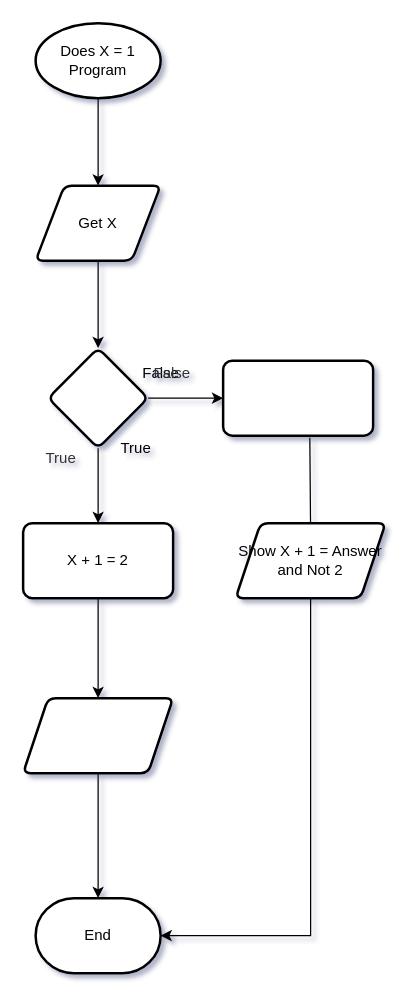
The diagram is 415 pixels wide and 1003 high, and some of its shapes have lost their labels. Each missing label, with the box of its shape:
If X = 1: (46, 346, 149, 449)
Show X + 1 = 2: (21, 696, 174, 774)
X + 1 = Answer: (221, 359, 374, 436)
